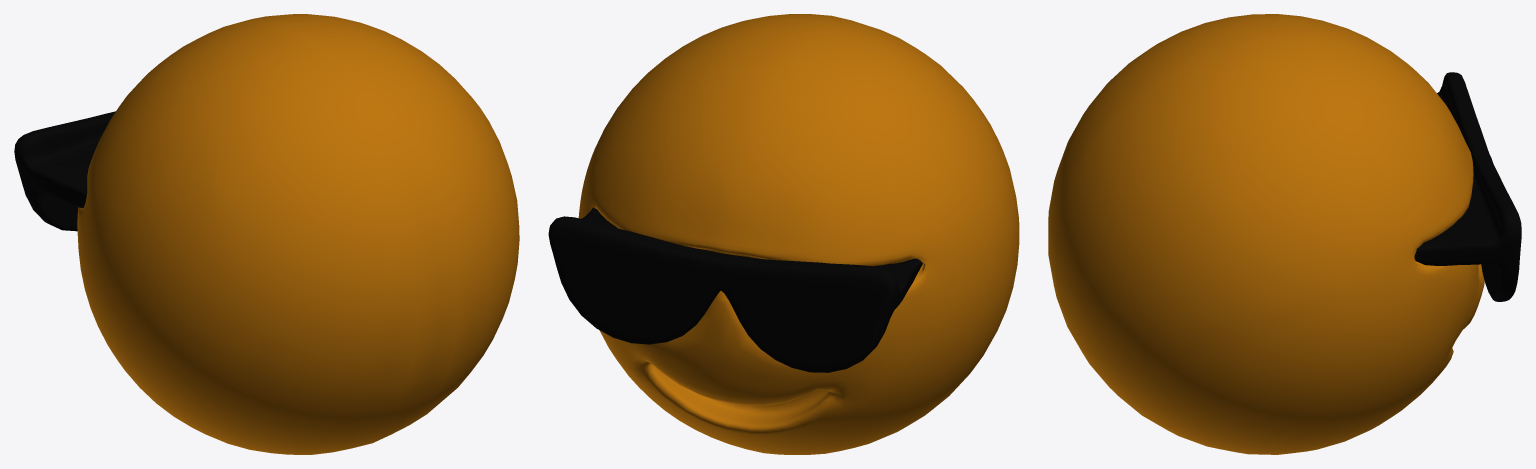
The model's file is sunglasses 3DS.fbx.
The picture shows the model from 3 angles, left to right: view 1: azimuth 30°, elevation 25°; view 2: azimuth 150°, elevation 25°; view 3: azimuth 270°, elevation 25°; orthographic projection.
Visible parts, largest first — view 1: Group43228, Group17483; view 2: Group43228, Group17483; view 3: Group43228, Group17483.
Part boxes in pixels (box(x1,y1,x2,y2)): Group43228: box(77, 14, 519, 454); Group17483: box(14, 111, 115, 231); Group43228: box(578, 14, 1019, 454); Group17483: box(548, 207, 922, 372); Group43228: box(1048, 14, 1484, 454); Group17483: box(1414, 72, 1521, 301).
Bounding box in the file's own units: 56.59 × 56.61 × 60.69.
